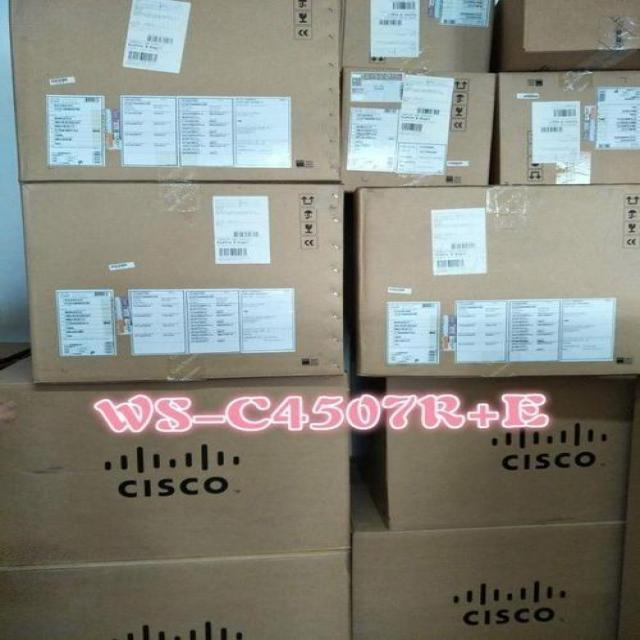box: (0, 348, 354, 550), (19, 186, 358, 385), (8, 0, 346, 184), (353, 186, 640, 374), (366, 373, 640, 526), (347, 503, 626, 640), (0, 545, 353, 640), (500, 66, 640, 186), (342, 74, 496, 182), (332, 0, 494, 77), (498, 0, 640, 72)
